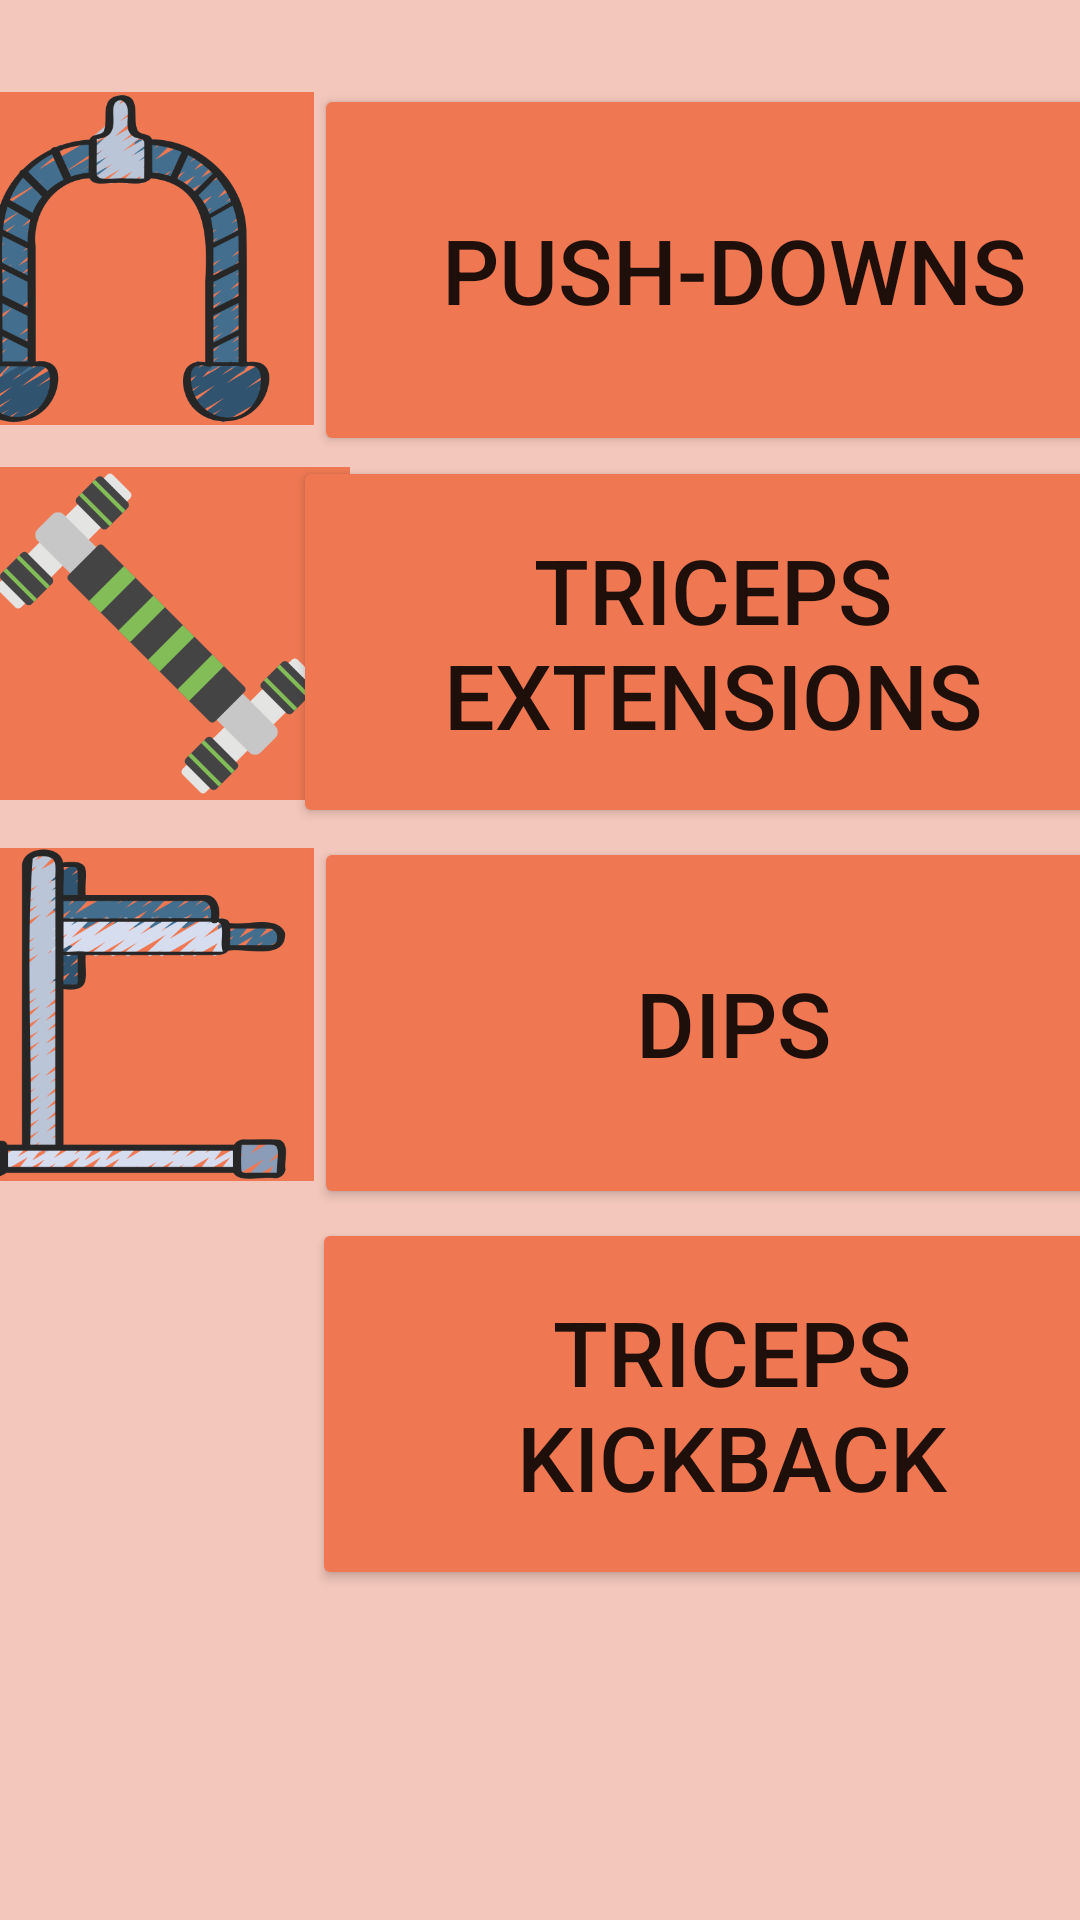

Icons on this 1080 × 1920 Android screen, each with the point to tap as [x,y]:
triceps extensions: [152,633]
